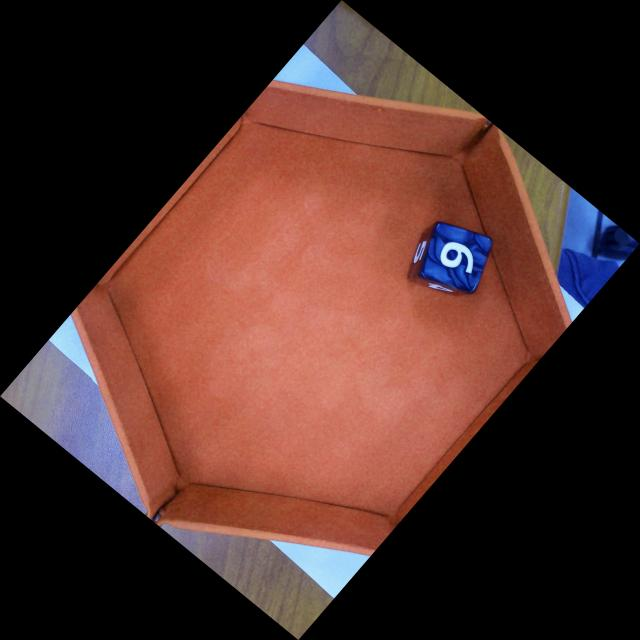dice: (423, 219, 490, 288)
